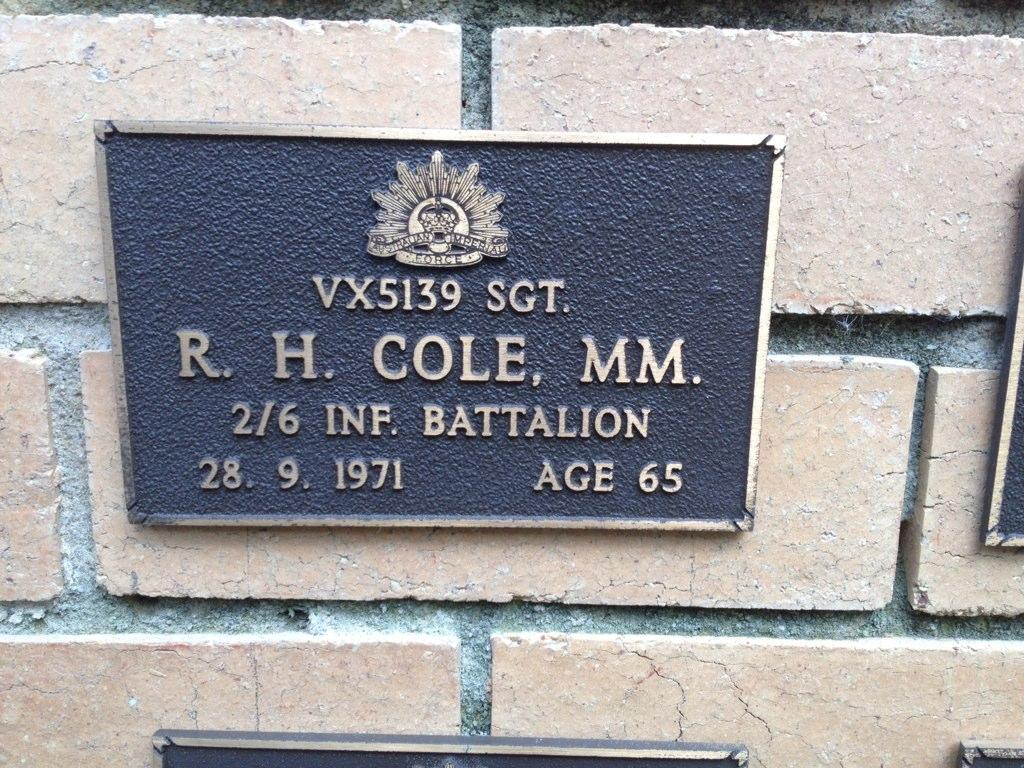plaque: (94, 110, 792, 546)
